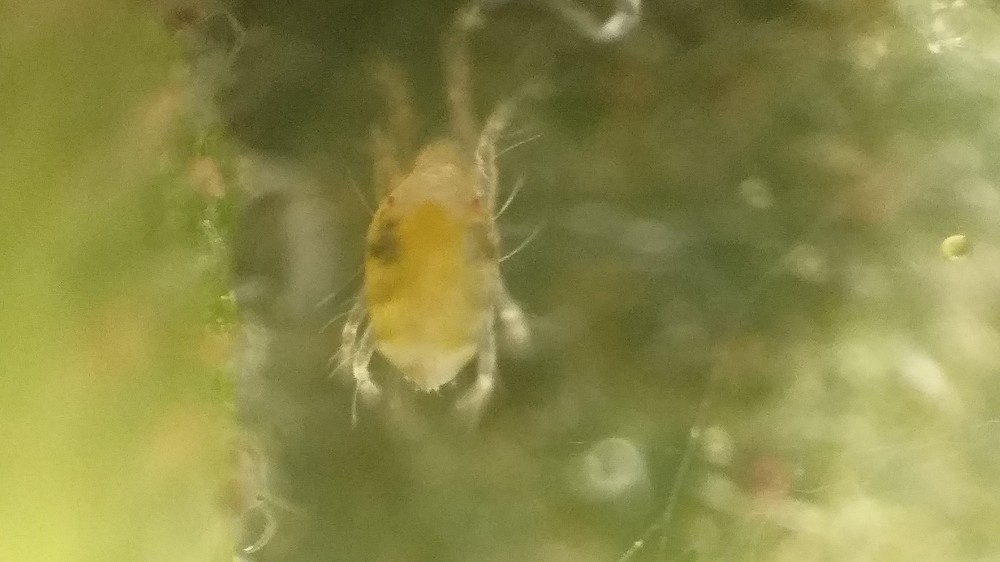Aracnido Rojo: (299, 33, 589, 445)
